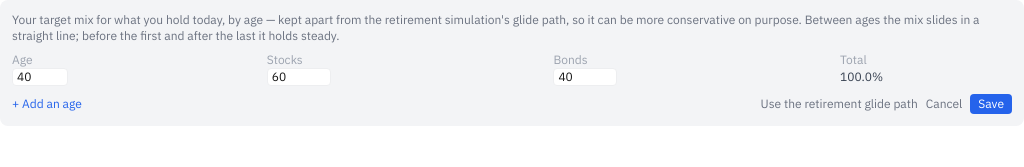
Test: CurrentGlidePathEditor › won't save a cleared age (it isn't age 0)
The width and height of the screenshot is (1024, 167).
Clear the number field named "Age" at (40, 77), box x1=12 y1=68 x2=68 y2=86
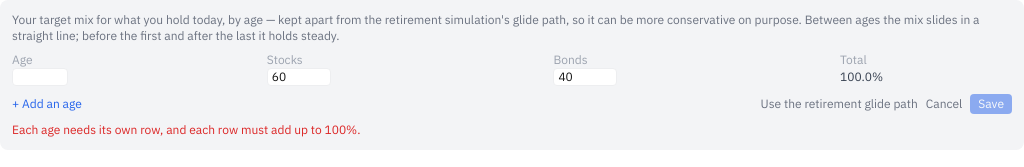
Result: the button "Save" is disabled at x1=970 y1=94 x2=1012 y2=114
